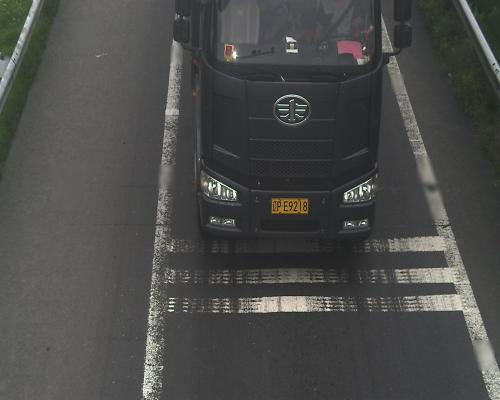Carplate: (267, 194, 313, 217)
